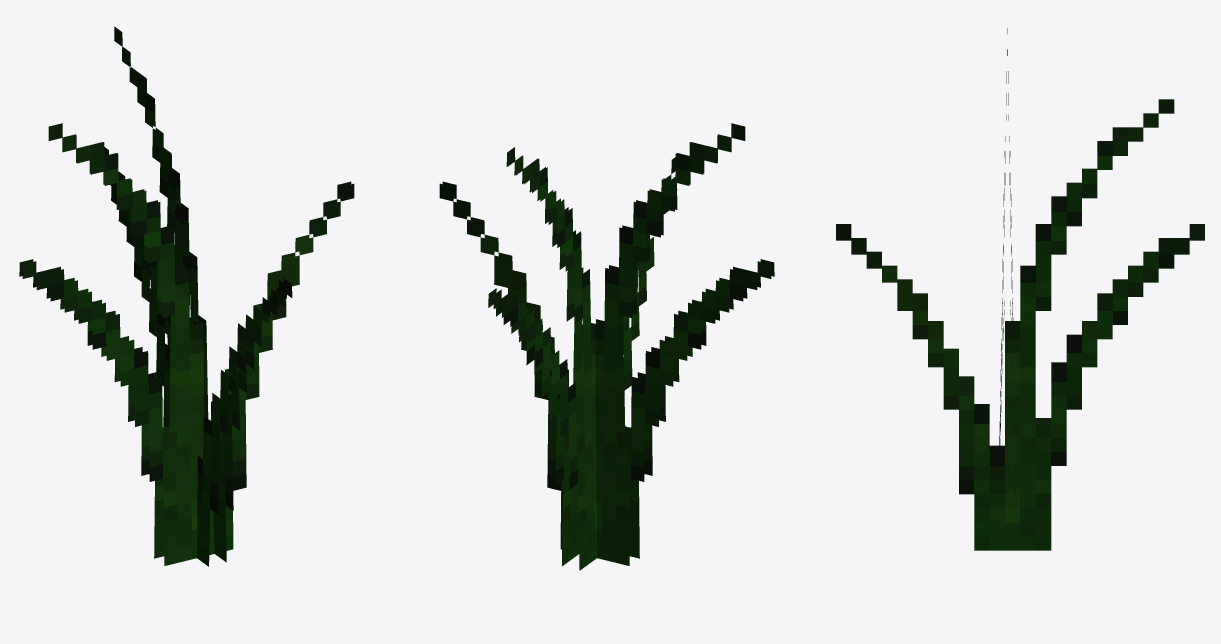
File: grass01.glb
3 renders of one model, left to right at view 1: azimuth 30°, elevation 25°; view 2: azimuth 150°, elevation 25°; view 3: azimuth 270°, elevation 25°, orthographic. The views are drawn at different scales.
Visible parts, largest first — view 1: grass1; view 2: grass1; view 3: grass1.
Boxes of the visible parts, box(x1,y1,x2,y2) form: grass1: box(19, 26, 354, 566); grass1: box(439, 123, 774, 570); grass1: box(836, 28, 1204, 550).
Bounding box in the file's own units: 0.405 × 0.5 × 0.404.
1 material, 1 textured.
